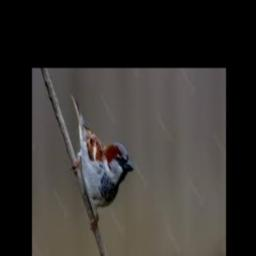Sparrow: (71, 94, 134, 232)
